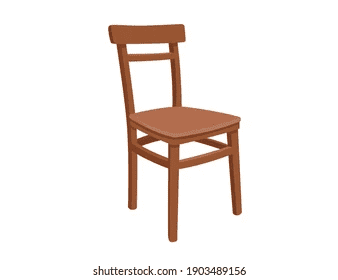chair: (107, 19, 251, 243)
